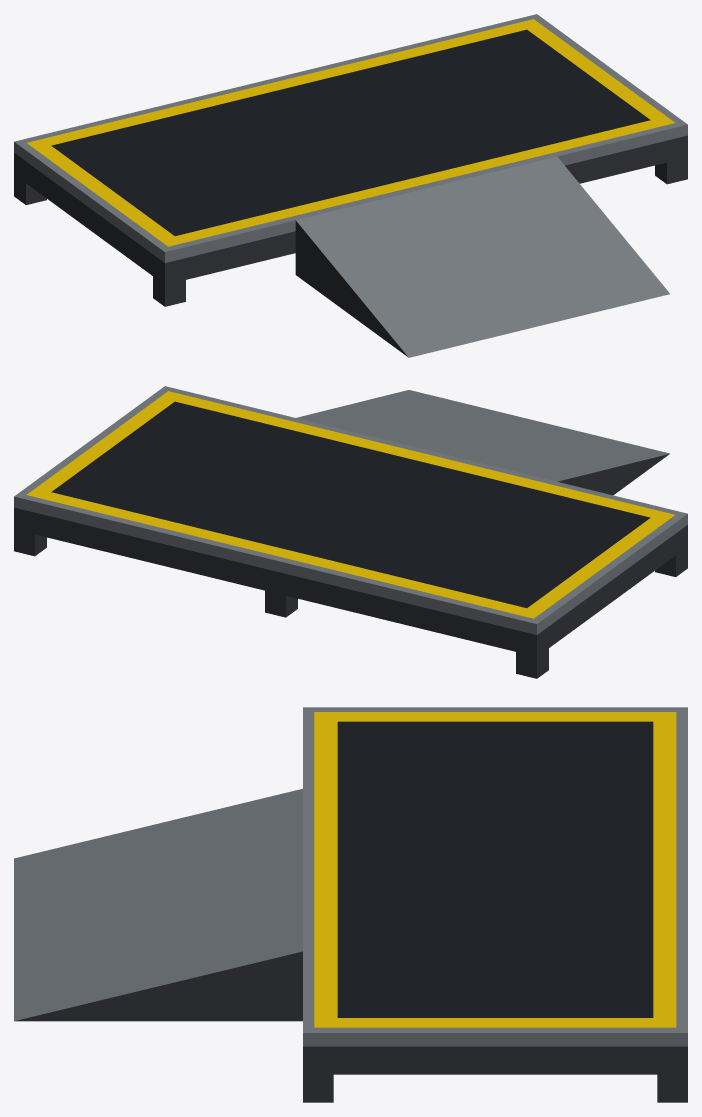
Rendered from Staging_Platform.glb.
3 renders of one model, top to bottom at view 1: azimuth 30°, elevation 25°; view 2: azimuth 150°, elevation 25°; view 3: azimuth 270°, elevation 25°, orthographic. The views are drawn at different scales.
Parts seen in each view (by area): view 1: Staging_Platform; view 2: Staging_Platform; view 3: Staging_Platform.
Boxes of the visible parts, box(x1,y1,x2,y2) form: Staging_Platform: box(14, 14, 687, 357); Staging_Platform: box(14, 386, 687, 678); Staging_Platform: box(14, 707, 687, 1102).
Size of what is drawn, in the model's own units: 2 by 0.2008 by 1.75.
